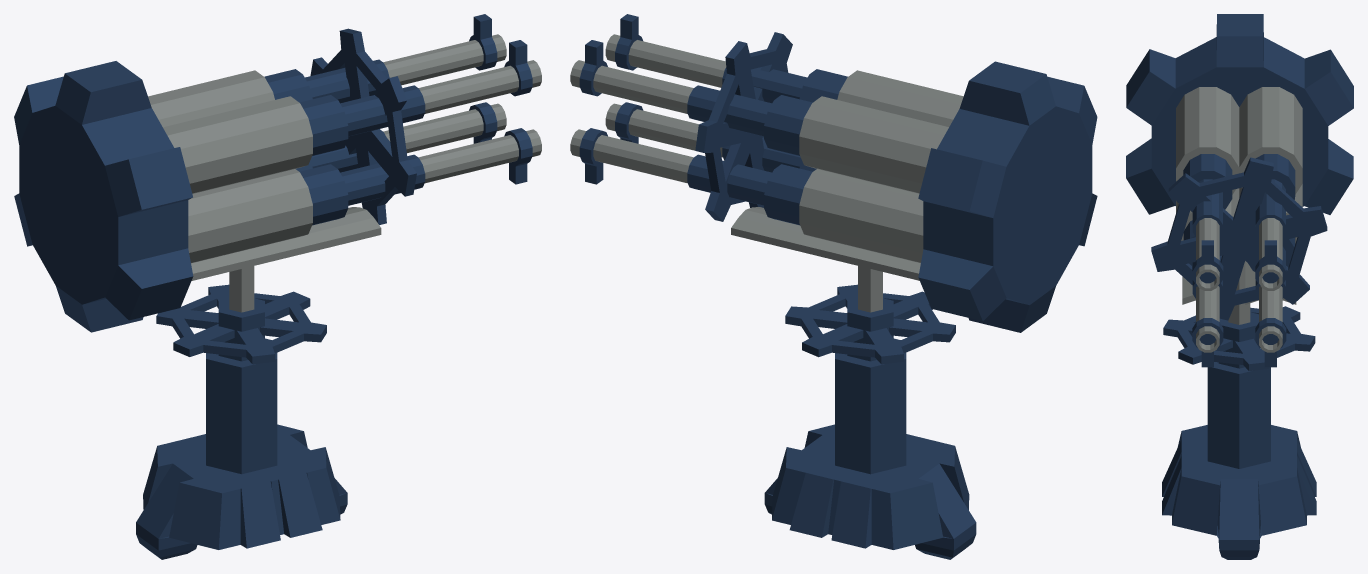
Rendered from Turret.fbx.
The picture shows the model from 3 angles, left to right: view 1: azimuth 30°, elevation 25°; view 2: azimuth 150°, elevation 25°; view 3: azimuth 270°, elevation 25°; orthographic projection. The views are drawn at different scales.
Parts seen in each view (by area): view 1: Gun_9_Gun.019, Gun_9_Mid, Cube; view 2: Gun_9_Gun.019, Gun_9_Mid, Cube; view 3: Gun_9_Gun.019, Cube, Gun_9_Mid.
Part boxes in pixels (x1,y1,x2,y2): Gun_9_Gun.019: (14, 14, 541, 332); Gun_9_Mid: (156, 207, 381, 474); Cube: (136, 424, 347, 559); Gun_9_Gun.019: (570, 14, 1097, 332); Gun_9_Mid: (731, 207, 955, 474); Cube: (764, 424, 976, 559); Gun_9_Gun.019: (1126, 14, 1353, 367); Cube: (1162, 425, 1316, 559); Gun_9_Mid: (1163, 261, 1315, 468).
Bounding box in the file's own units: 3.7 × 3.89 × 1.83.
